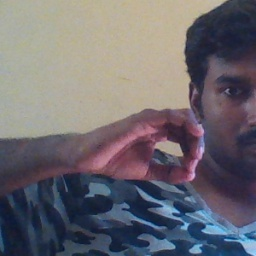O: (92, 101, 210, 196)
